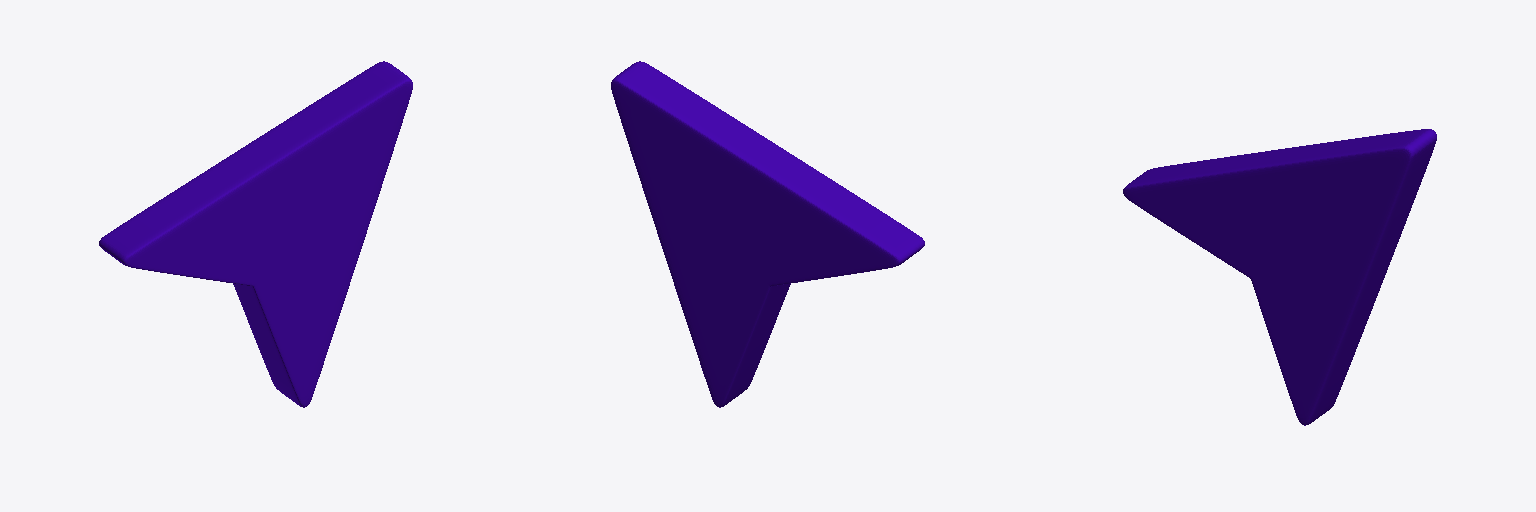
The model's file is location.obj.
3 renders of one model, left to right at view 1: azimuth 30°, elevation 25°; view 2: azimuth 150°, elevation 25°; view 3: azimuth 330°, elevation 25°, orthographic.
Parts seen in each view (by area): view 1: Circle.020_Circle.042; view 2: Circle.020_Circle.042; view 3: Circle.020_Circle.042.
Boxes of the visible parts, <box> form: Circle.020_Circle.042: <box>99,61,412,407</box>; Circle.020_Circle.042: <box>611,61,924,407</box>; Circle.020_Circle.042: <box>1123,129,1436,425</box>.
Size of the model in its own units: 1.79 by 1.79 by 0.2916.